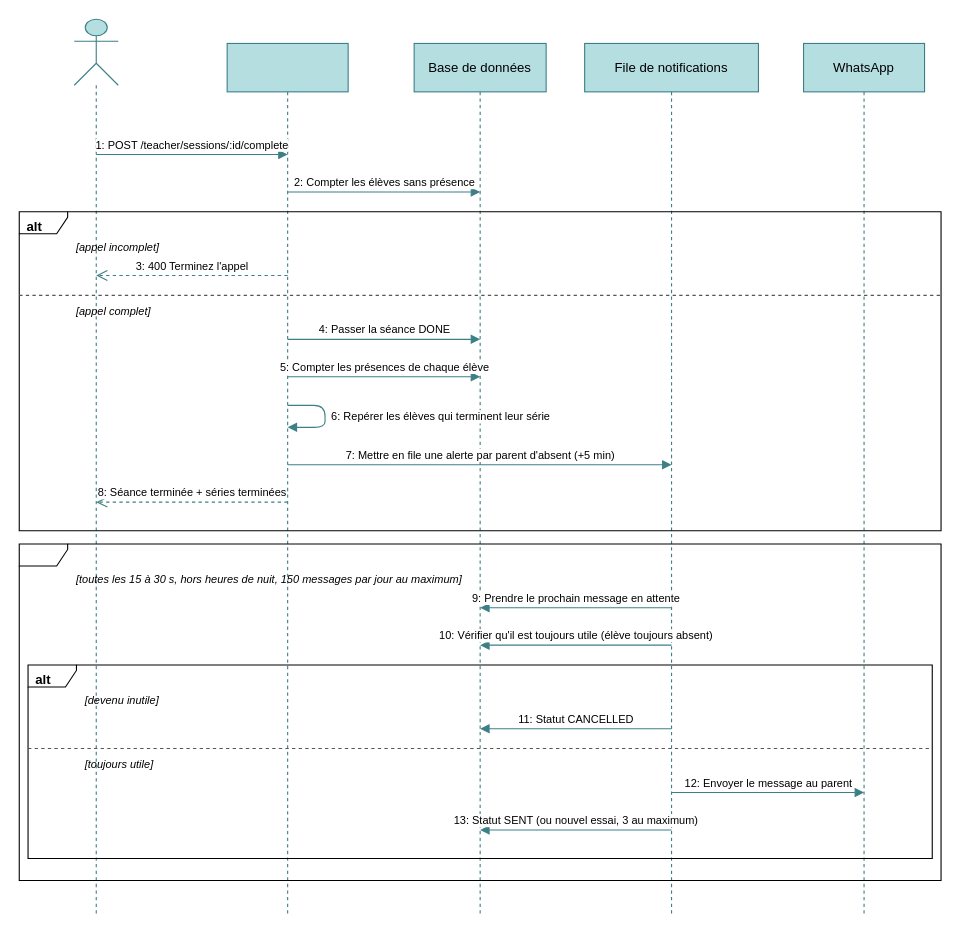
This 961x935 diagram has some shape labels left out. Here are the shapes that lost their labels. From the top down, the box of each, then its label:
(73, 18, 118, 916): Enseignant
(226, 42, 348, 916): API NestJS
(18, 543, 941, 881): loop
